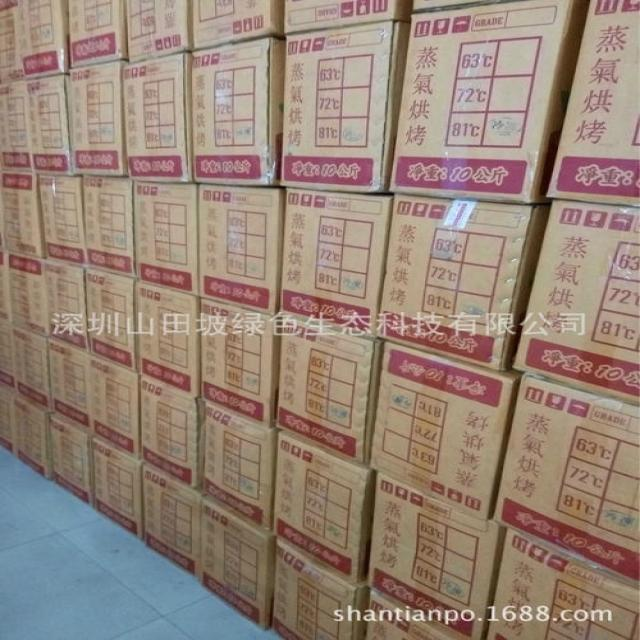box: (388, 0, 589, 205), (494, 372, 640, 586), (378, 193, 550, 372), (369, 340, 522, 521), (512, 200, 640, 405), (367, 475, 506, 640), (282, 21, 411, 194), (547, 0, 640, 207), (481, 527, 640, 640), (279, 188, 393, 338), (275, 318, 384, 469), (269, 428, 375, 582), (192, 38, 287, 187), (198, 184, 285, 317), (200, 299, 284, 426), (271, 537, 369, 640), (201, 495, 274, 632), (201, 401, 275, 534), (122, 53, 195, 184), (134, 281, 201, 398), (141, 460, 204, 582), (132, 181, 198, 297), (64, 61, 129, 178), (140, 376, 207, 488), (26, 74, 82, 177), (88, 356, 142, 461), (82, 176, 137, 279), (364, 588, 470, 640), (86, 268, 137, 373), (93, 435, 143, 539), (191, 0, 284, 50), (47, 339, 95, 435), (38, 174, 86, 268), (14, 0, 70, 80), (283, 0, 412, 34), (124, 0, 193, 63), (44, 260, 90, 353), (49, 414, 96, 505), (65, 0, 127, 68), (0, 171, 47, 259), (8, 250, 50, 337), (15, 396, 51, 483), (0, 79, 32, 174), (13, 328, 50, 409), (411, 0, 522, 14), (0, 385, 18, 454), (0, 316, 14, 392), (0, 250, 13, 321)
